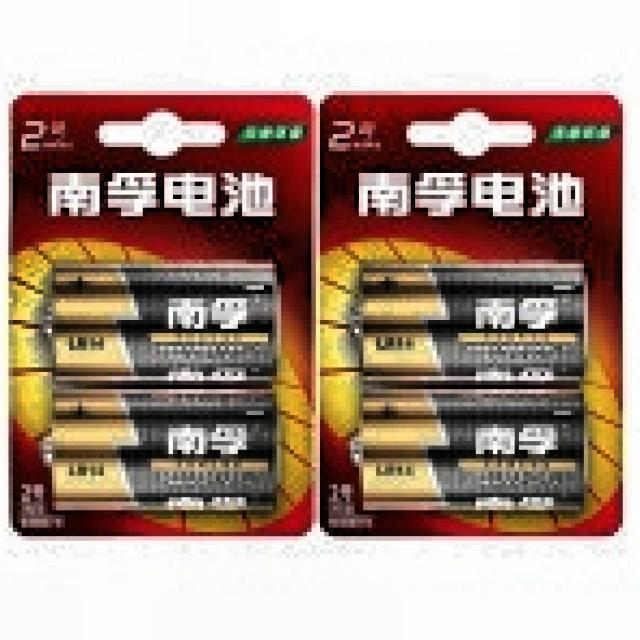Non-Valuable Waste - Batteries: (47, 385, 274, 510), (358, 389, 583, 510), (52, 264, 276, 383), (360, 266, 585, 383)
